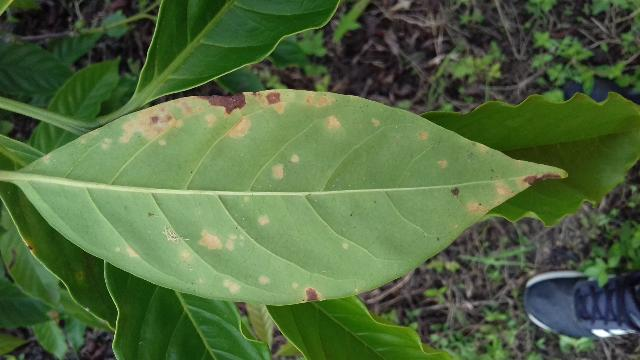rust_level_2: (10, 84, 575, 313)
